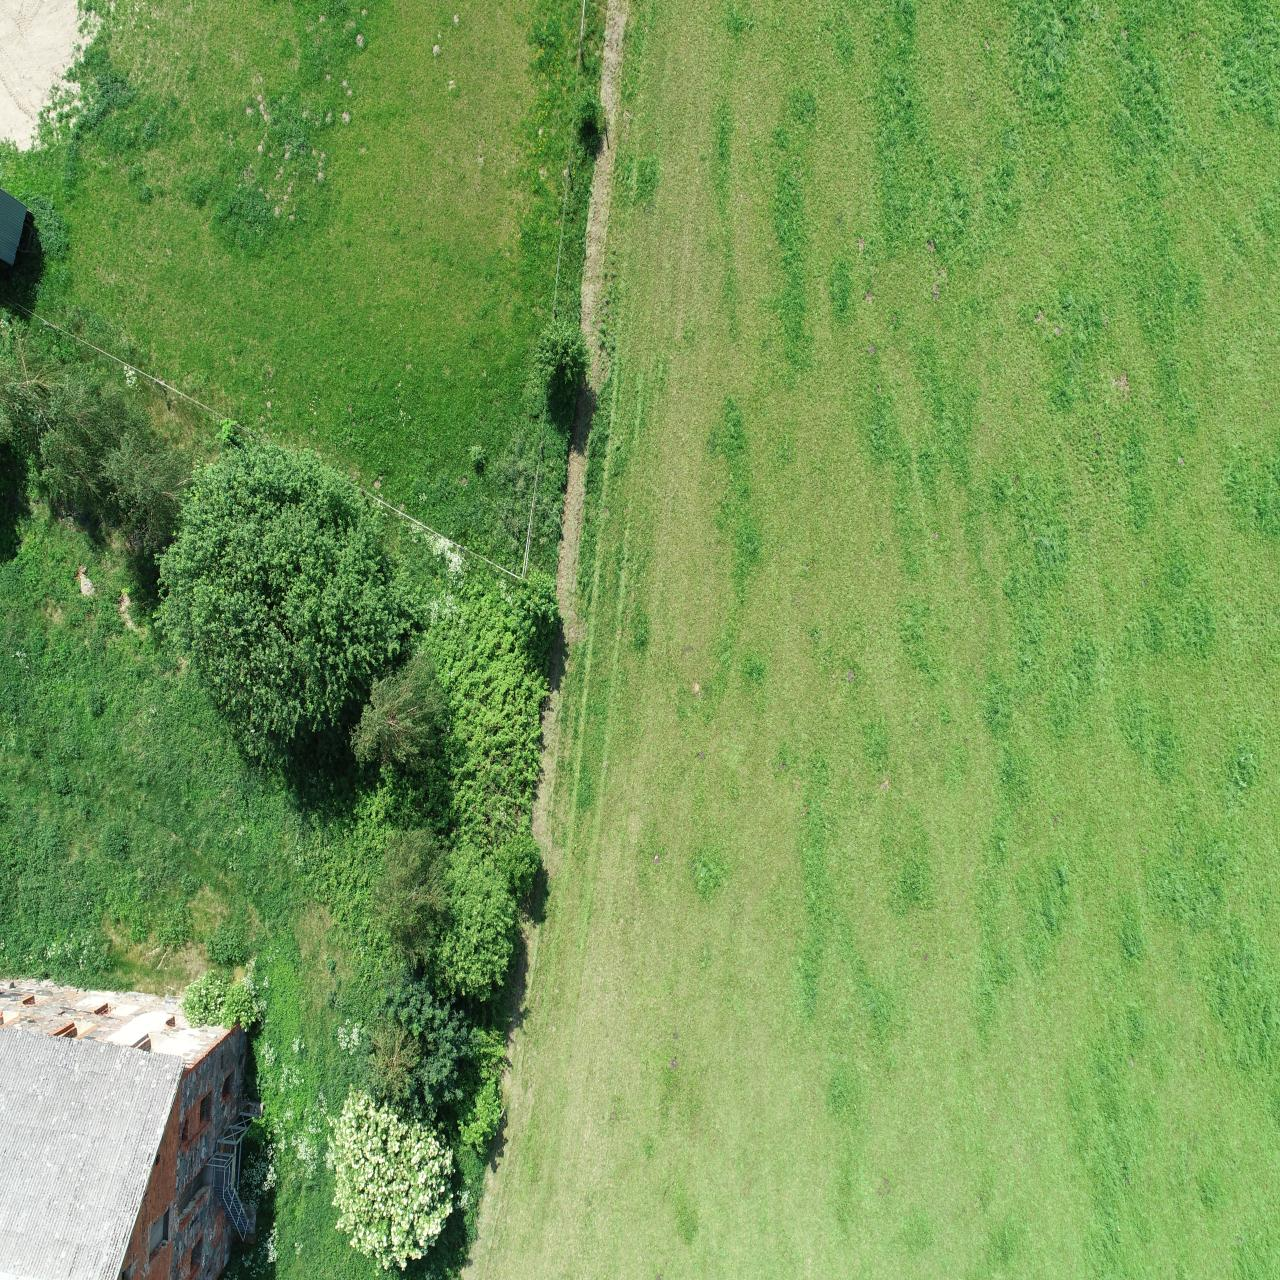cow: (561, 1251, 586, 1279)
